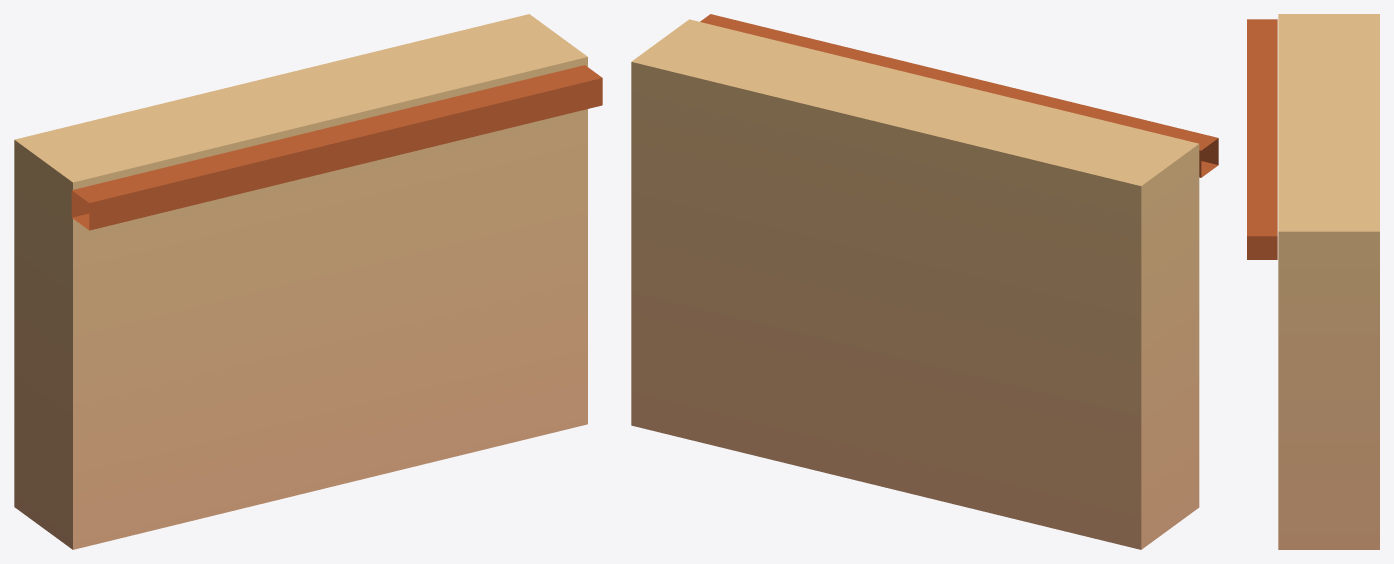
The model's file is Wall_Right_2.fbx.
The picture shows the model from 3 angles, left to right: view 1: azimuth 30°, elevation 25°; view 2: azimuth 150°, elevation 25°; view 3: azimuth 270°, elevation 25°; orthographic projection. The views are drawn at different scales.
Parts seen in each view (by area): view 1: Wall.001; view 2: Wall.001; view 3: Wall.001.
Boxes of the visible parts, box(x1,y1,x2,y2) form: Wall.001: box(14, 14, 602, 549); Wall.001: box(631, 14, 1218, 549); Wall.001: box(1247, 14, 1379, 549).
Size of the model in its own units: 1.67 by 1.14 by 0.4297.
